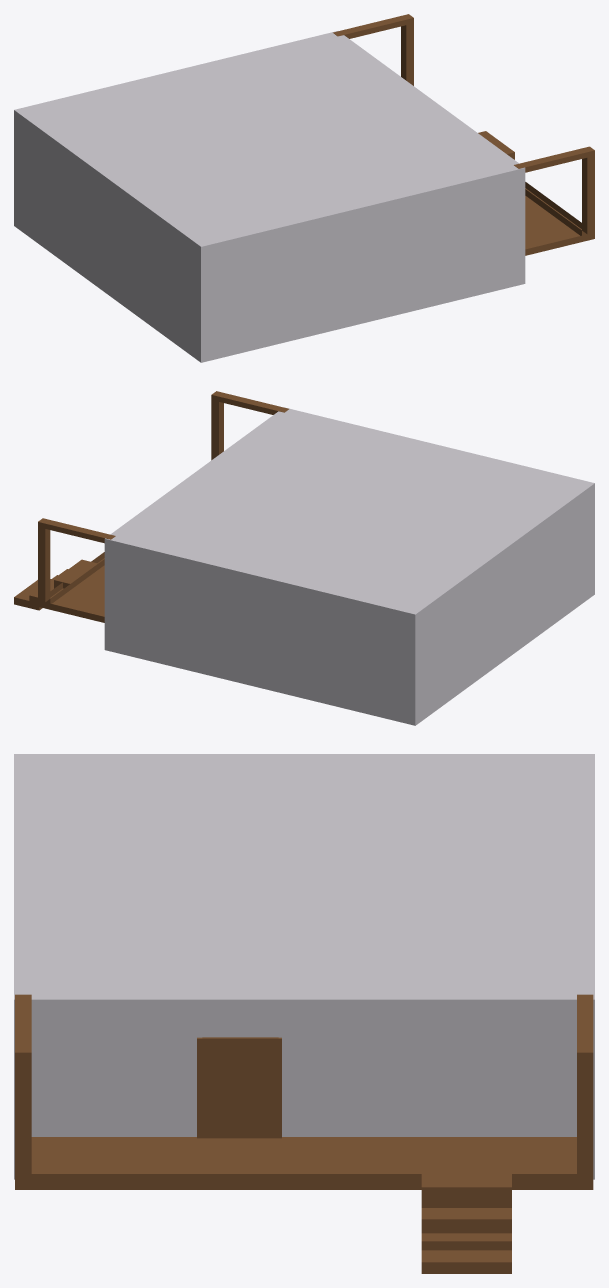
File: House_001.dae
The picture shows the model from 3 angles, top to bottom: view 1: azimuth 30°, elevation 25°; view 2: azimuth 150°, elevation 25°; view 3: azimuth 270°, elevation 25°; orthographic projection. The views are drawn at different scales.
Parts seen in each view (by area): view 1: Cube, Plane; view 2: Cube, Plane; view 3: Cube, Plane.
Part boxes in pixels (box(x1,y1,x2,y2)): Cube: box(14, 31, 525, 362); Plane: box(333, 14, 594, 255); Cube: box(104, 407, 594, 725); Plane: box(14, 391, 288, 622); Cube: box(14, 754, 594, 1179); Plane: box(15, 994, 593, 1273).
Size of the model in its own units: 12.59 by 9.16 by 3.18.
